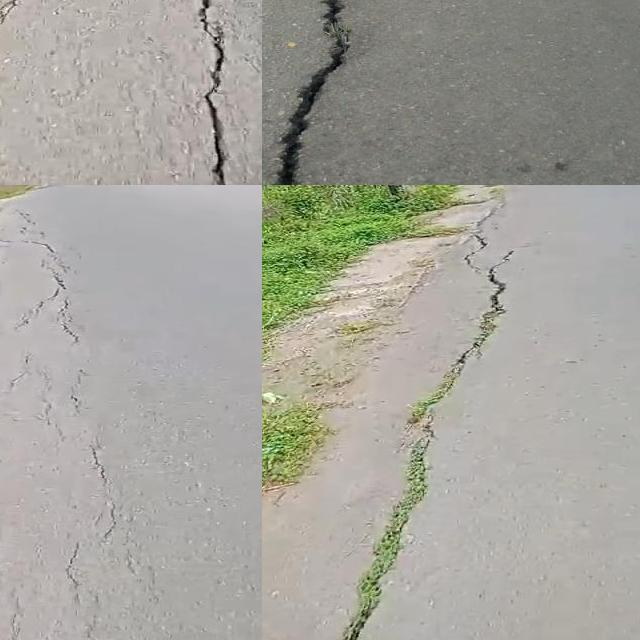Memanjang: (329, 239, 522, 640), (262, 0, 369, 185), (172, 0, 245, 185)
